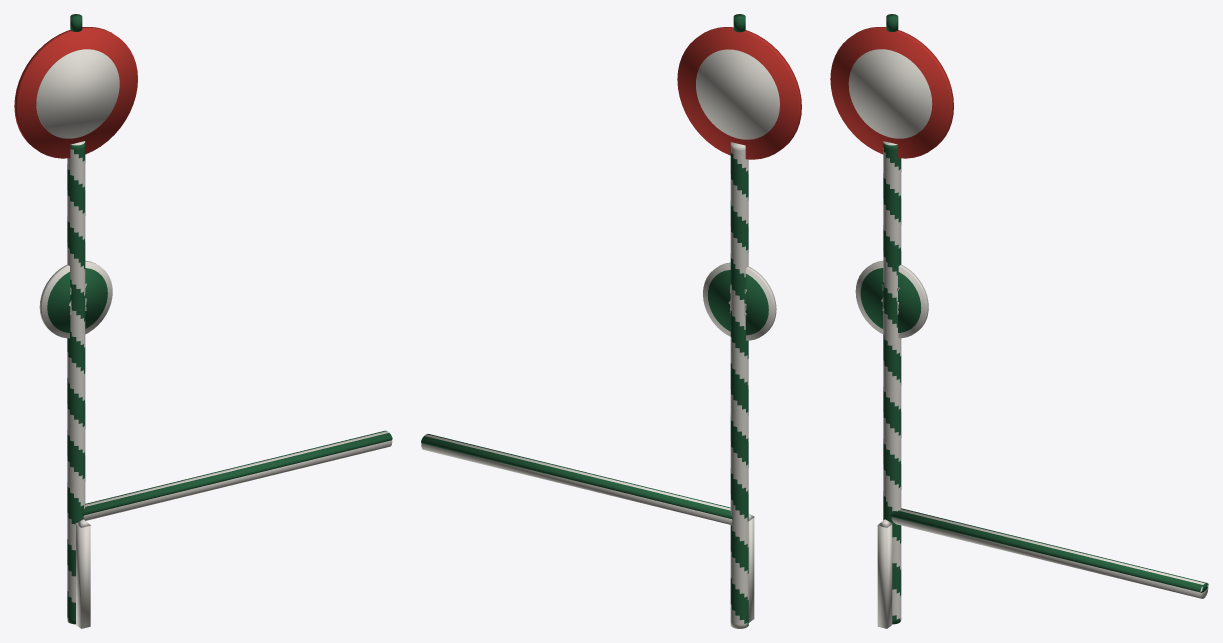
The model's file is course_props.glb.
3 views of the same model, side by side, from view 1: azimuth 30°, elevation 25°; view 2: azimuth 150°, elevation 25°; view 3: azimuth 330°, elevation 25° (orthographic).
Visible parts, largest first — view 1: winning_post, rail_module, furlong_1; view 2: winning_post, rail_module, furlong_1; view 3: winning_post, rail_module, furlong_1.
Part boxes in pixels (box(x1,y1,x2,y2)): winning_post: box(14, 14, 137, 624); rail_module: box(76, 430, 392, 628); furlong_1: box(39, 260, 112, 338); winning_post: box(677, 14, 801, 628); rail_module: box(421, 434, 754, 622); furlong_1: box(703, 262, 776, 340); winning_post: box(830, 14, 953, 624); rail_module: box(877, 508, 1208, 628); furlong_1: box(855, 260, 928, 338).
Bounding box in the file's own units: 3.58 × 5.55 × 0.2431.
